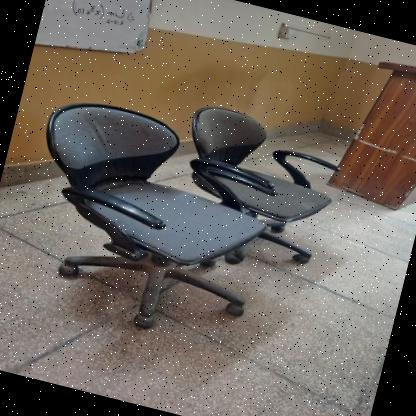chair: (0, 83, 291, 355), (150, 92, 356, 281)
